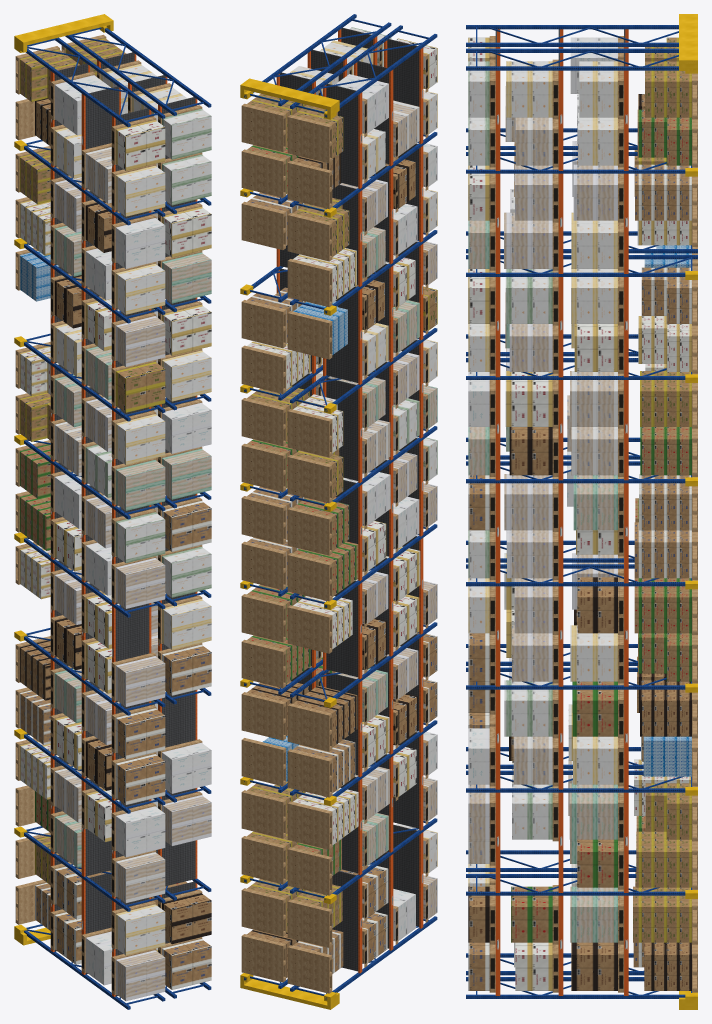
File: racks_w0_s.gltf
3 views of the same model, side by side, from view 1: azimuth 30°, elevation 25°; view 2: azimuth 150°, elevation 25°; view 3: azimuth 270°, elevation 25° (orthographic). The views are drawn at different scales.
Visible parts, largest first — view 1: racks_w0_s; view 2: racks_w0_s; view 3: racks_w0_s.
Boxes of the visible parts, <box> form: racks_w0_s: <box>14,14,211,1009</box>; racks_w0_s: <box>240,14,437,1009</box>; racks_w0_s: <box>466,14,697,1009</box>.
Bounding box in the file's own units: 2.6 × 24.86 × 5.5.
Materials: 20 (20 with a texture image).
